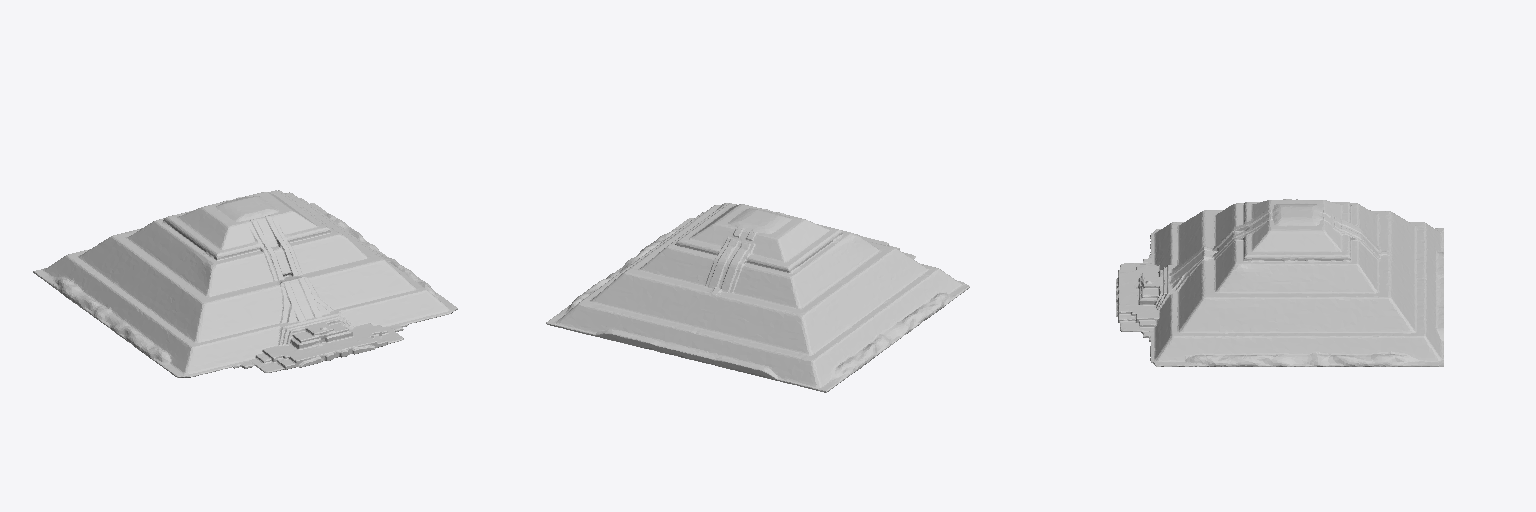
Rendered from Pyramid_Serenity_1124091429_texture.obj.
The picture shows the model from 3 angles: view 1: azimuth 30°, elevation 25°; view 2: azimuth 150°, elevation 25°; view 3: azimuth 270°, elevation 25°; orthographic projection.
Parts seen in each view (by area): view 1: Pyramid_Serenity_[number redacted]_texture; view 2: Pyramid_Serenity_[number redacted]_texture; view 3: Pyramid_Serenity_[number redacted]_texture.
Part boxes in pixels (x1,y1,x2,y2): Pyramid_Serenity_[number redacted]_texture: (33,190,457,377); Pyramid_Serenity_[number redacted]_texture: (546,203,969,392); Pyramid_Serenity_[number redacted]_texture: (1116,199,1443,366).
Size of the model in its own units: 33.8 by 10 by 34.04.